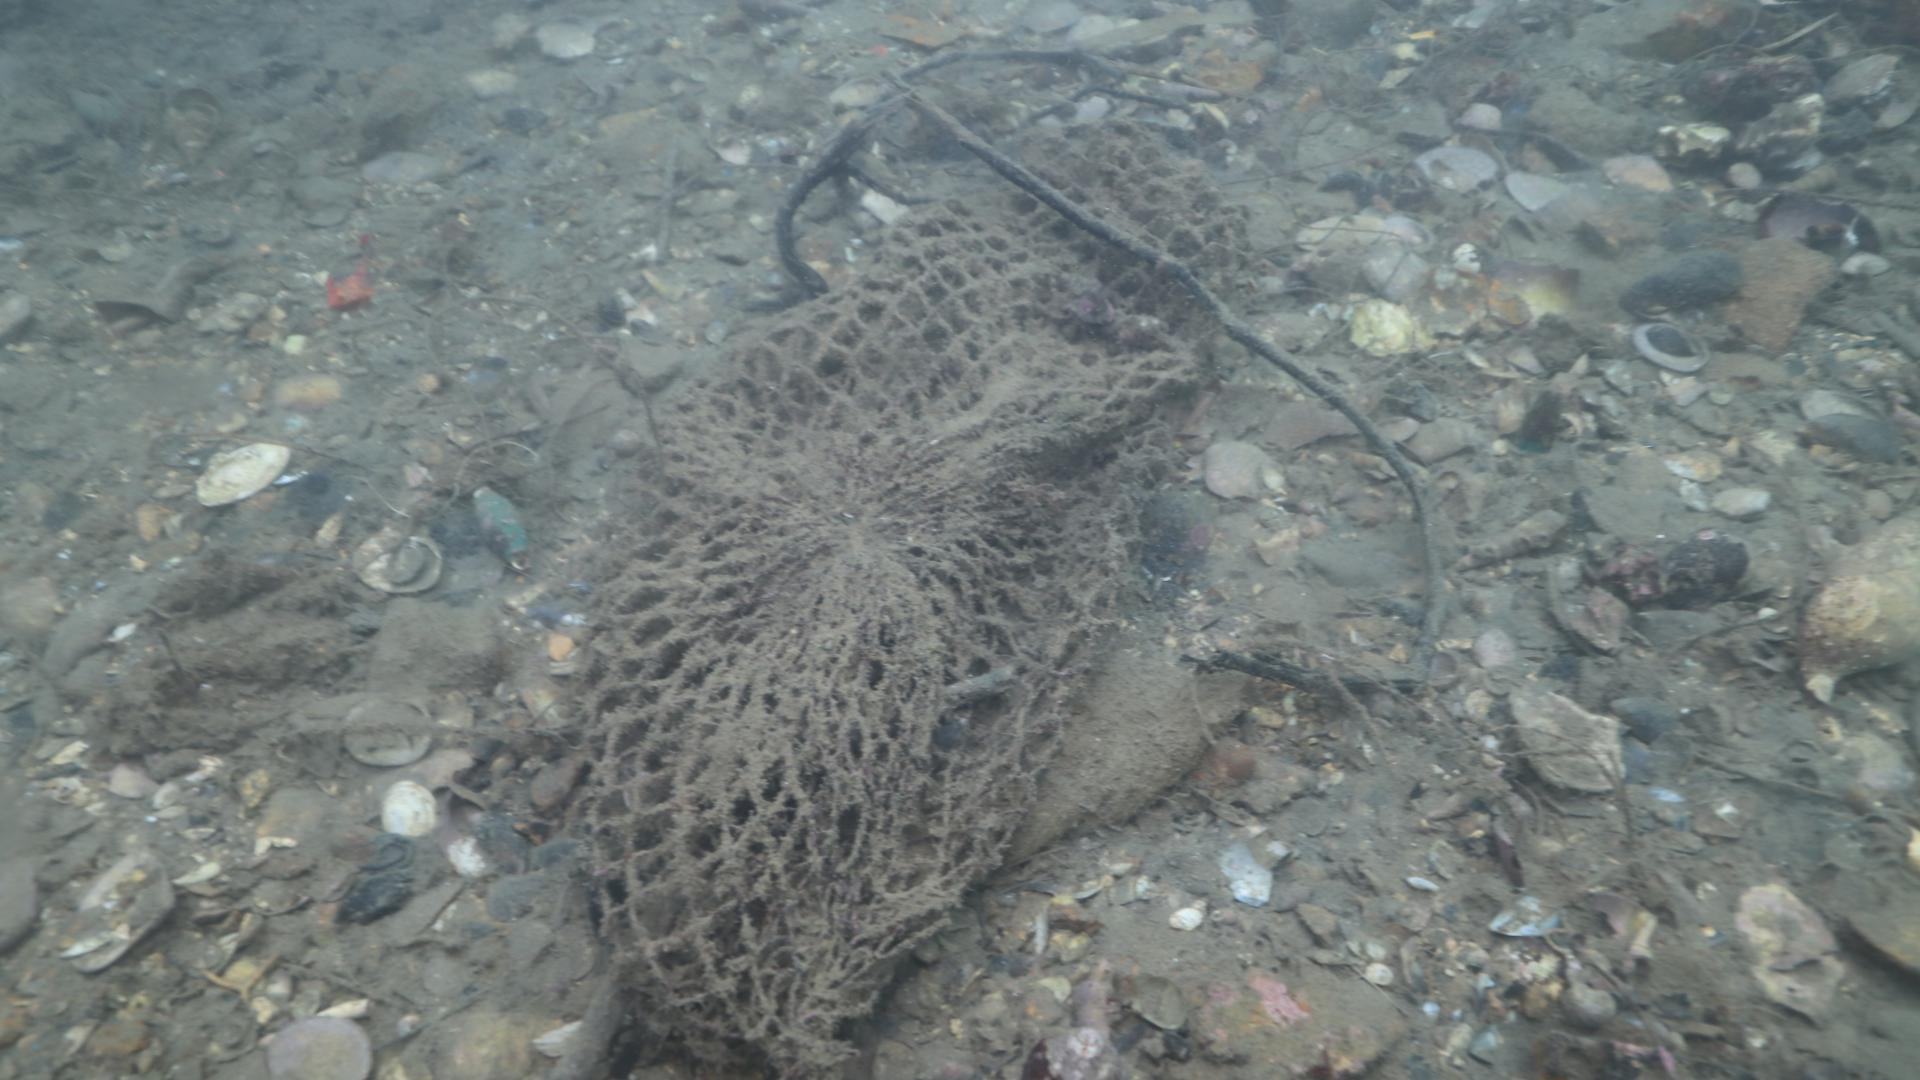fish net: (582, 115, 1255, 1075)
